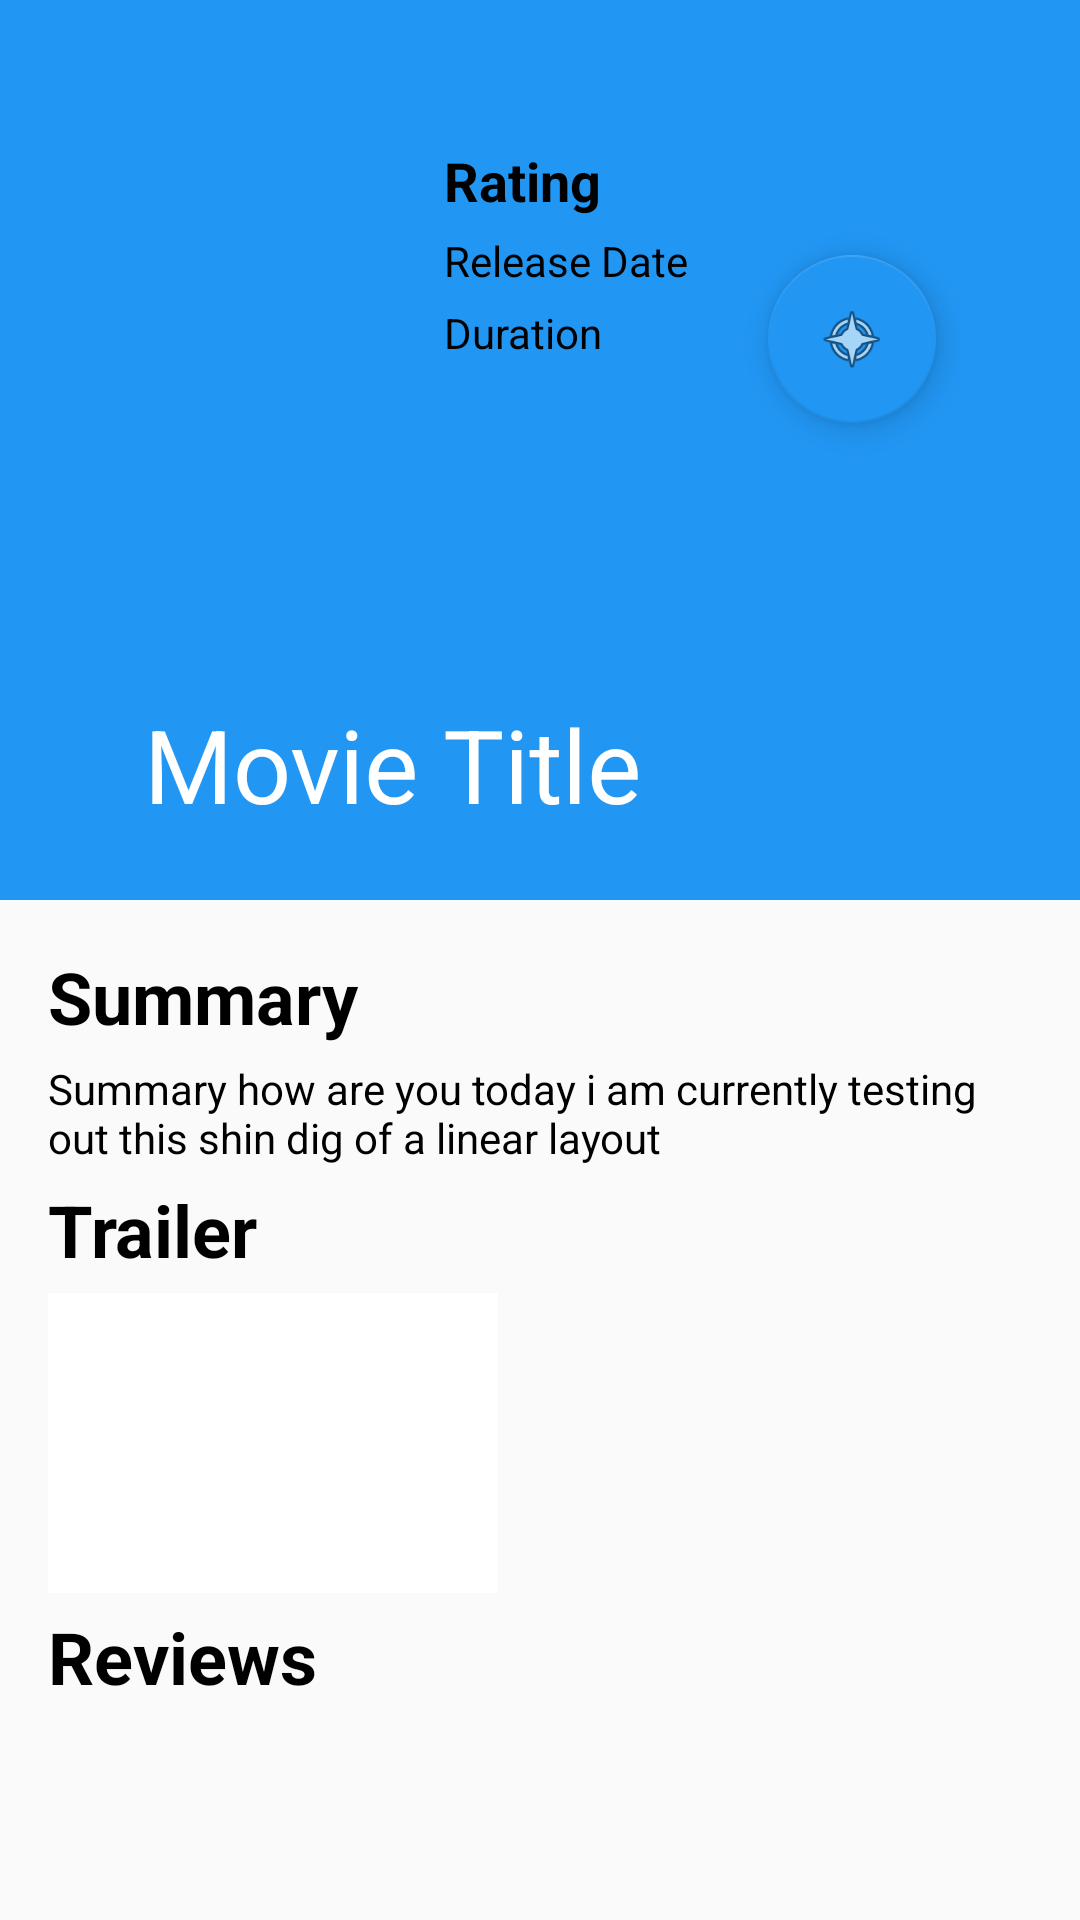

Icon bounding boxes for this 1080x1920 phone screenshot, format (x1, y1, x2, y2):
compass: (816, 255, 936, 423)
